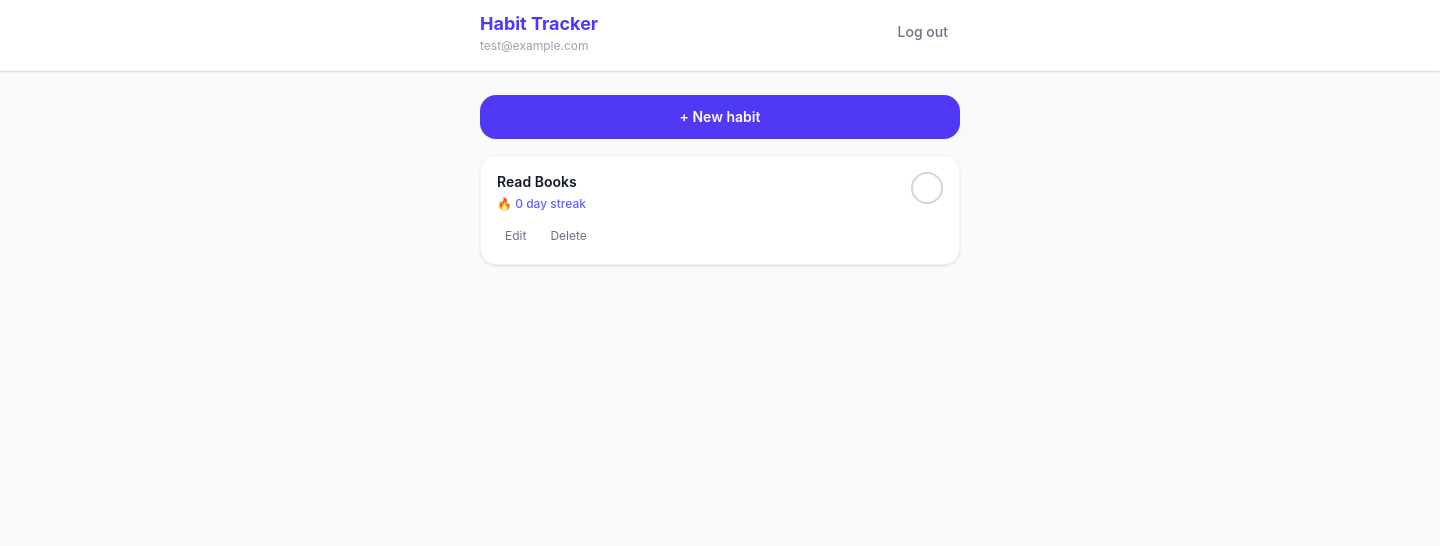
Scenario: habit form › edits an existing habit and preserves immutable fields
The width and height of the screenshot is (1440, 546).
Expected: the element with test id "habit-card-read-books" is shown, [480, 155, 960, 265]
Click the button with test id "habit-edit-read-books" at (516, 236), box [497, 224, 534, 248]
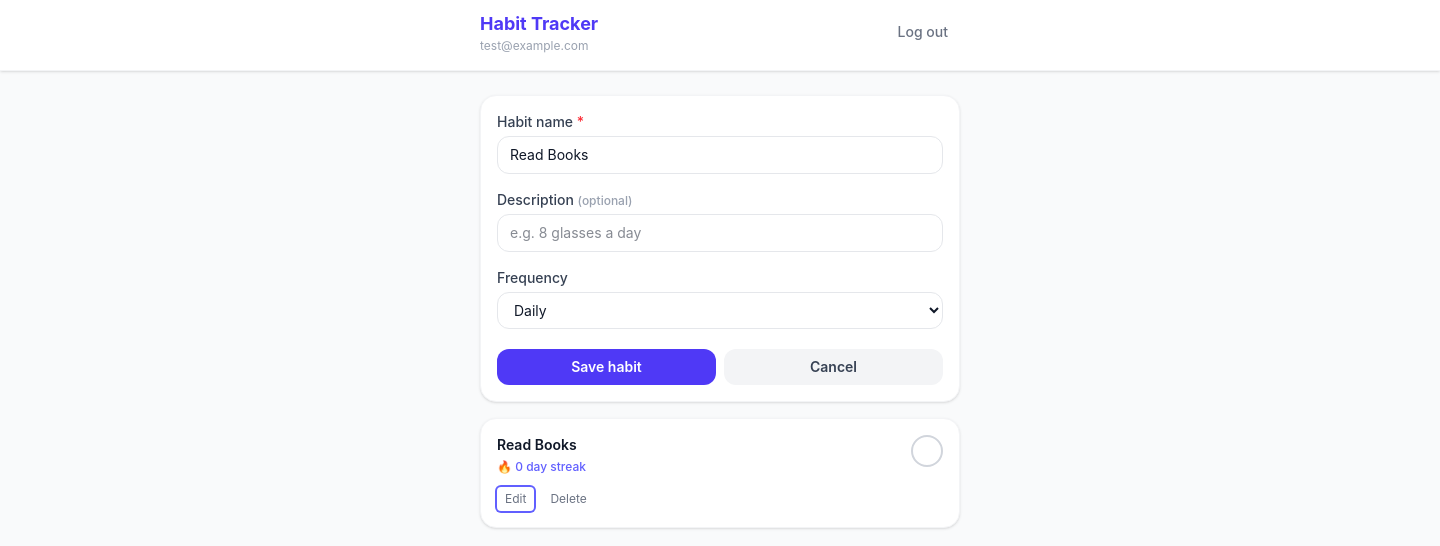
Replace the text in the field with test id "habit-name-input" with "Read More Books" at (720, 155), box [497, 136, 943, 174]
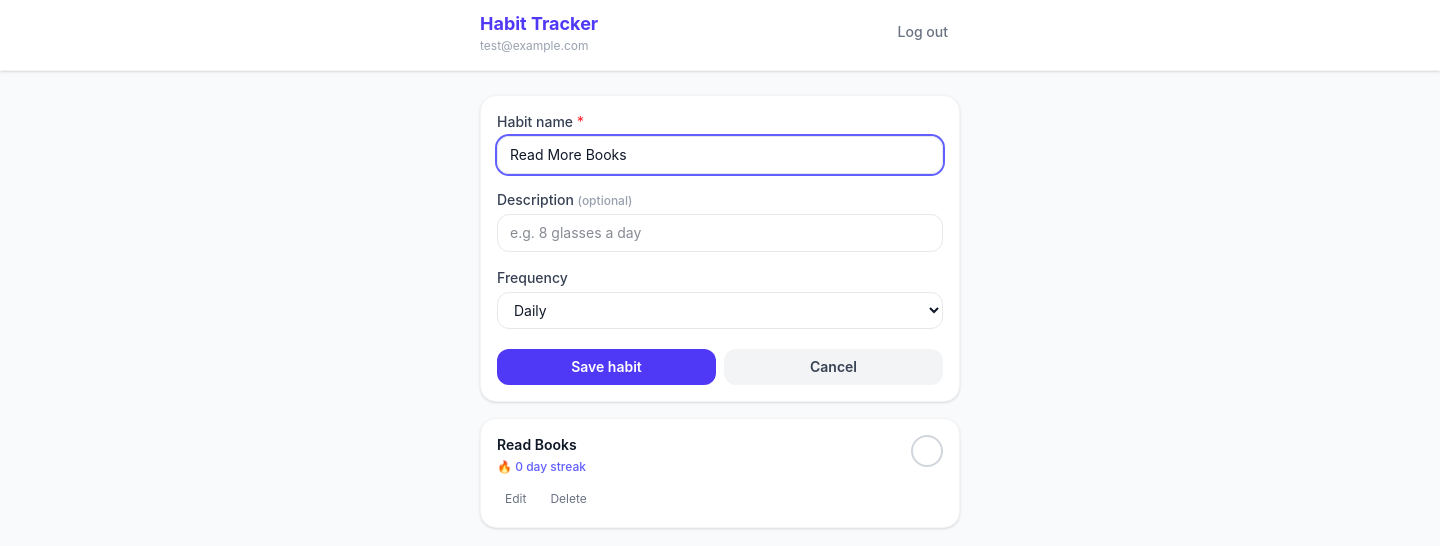
Click the button with test id "habit-save-button" at (606, 367), box [497, 349, 716, 385]
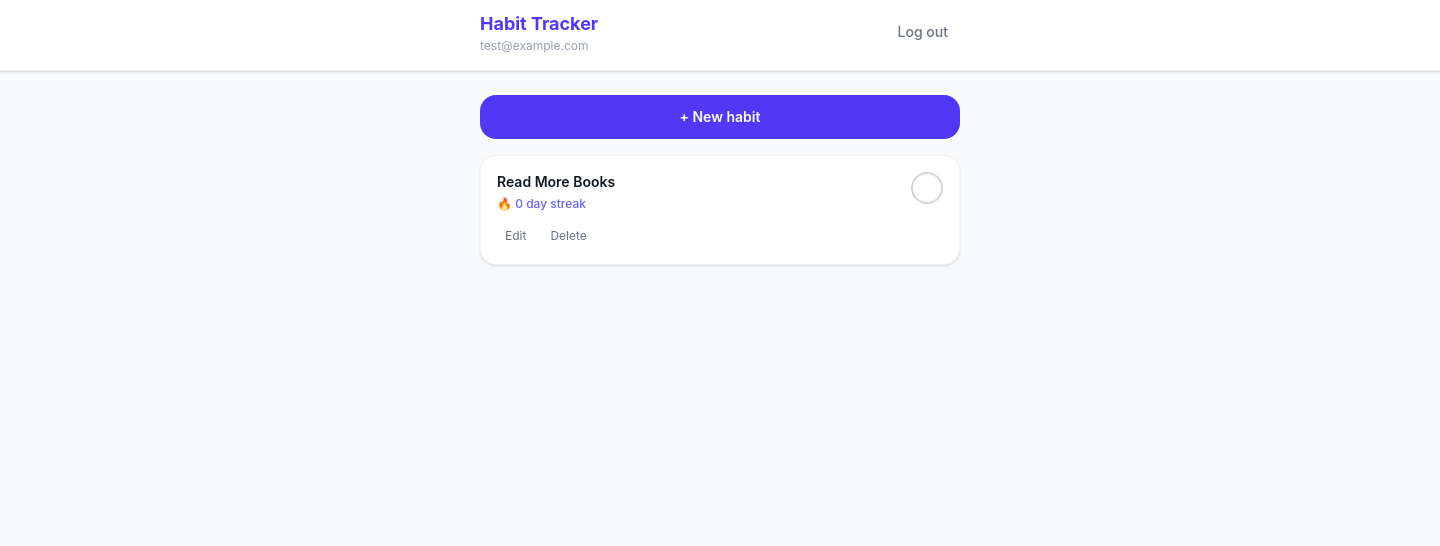
Expected: the element with test id "habit-card-read-more-books" is shown, [480, 155, 960, 265]
Expected: the heading "Read More Books" is shown, [497, 173, 615, 190]
